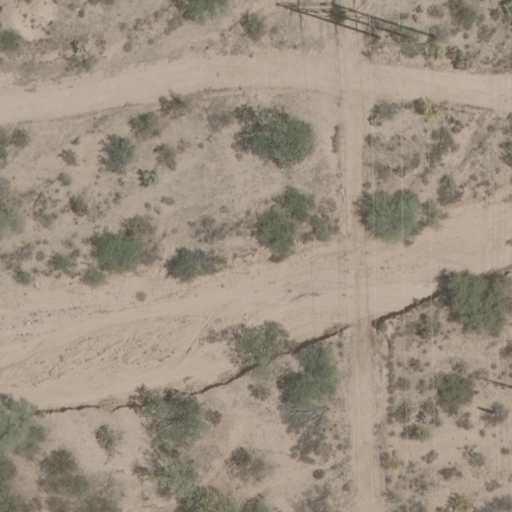DT: (358, 12, 445, 68)
